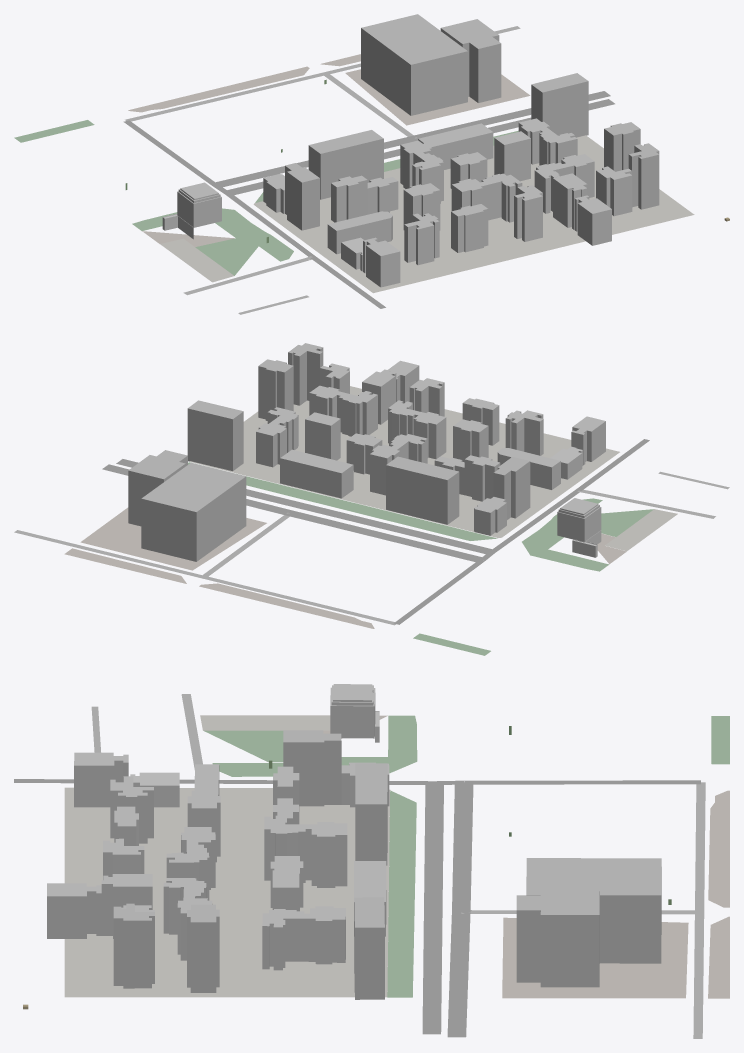
3 views of the same model, one above another, from view 1: azimuth 30°, elevation 25°; view 2: azimuth 150°, elevation 25°; view 3: azimuth 270°, elevation 25° (orthographic). The views are drawn at different scales.
Bounding box in the file's own units: 609 × 60.35 × 538.
